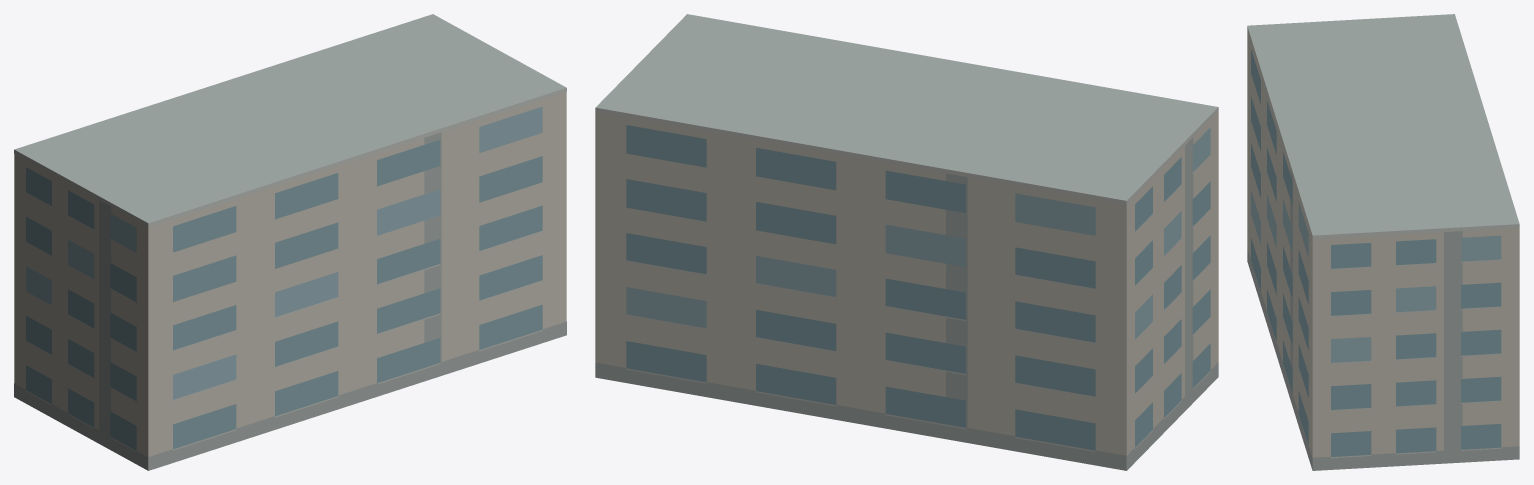
Rendered from survey-upis-32849144.glb.
3 renders of one model, left to right at view 1: azimuth 30°, elevation 25°; view 2: azimuth 150°, elevation 25°; view 3: azimuth 270°, elevation 25°, orthographic. The views are drawn at different scales.
Visible parts, largest first — view 1: survey-upis-32849144.tmp; view 2: survey-upis-32849144.tmp; view 3: survey-upis-32849144.tmp.
Boxes of the visible parts, x1,y1,x2,y2 form: survey-upis-32849144.tmp: [14, 14, 566, 470]; survey-upis-32849144.tmp: [595, 14, 1218, 470]; survey-upis-32849144.tmp: [1247, 14, 1519, 470].
Size of the model in its own units: 30.81 by 15.25 by 16.01.
